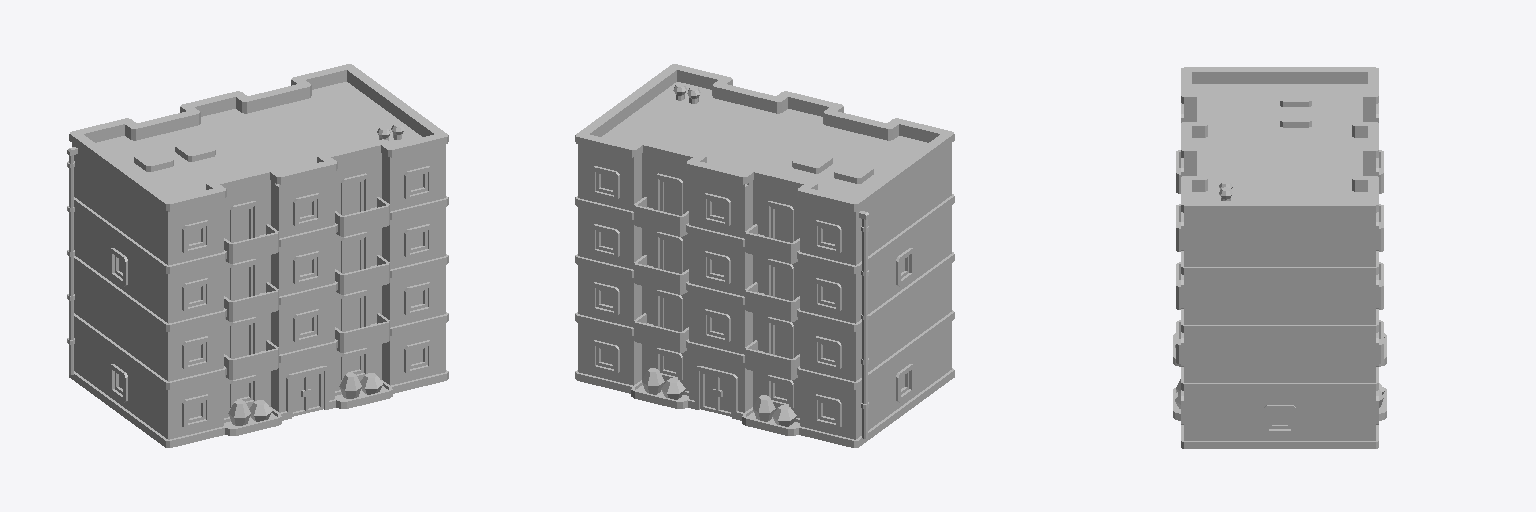
Rendered from building-j.obj.
3 renders of one model, left to right at view 1: azimuth 30°, elevation 25°; view 2: azimuth 150°, elevation 25°; view 3: azimuth 270°, elevation 25°, orthographic.
Visible parts, largest first — view 1: building-j; view 2: building-j; view 3: building-j.
Boxes of the visible parts, <box> form: building-j: <box>67,64,448,447</box>; building-j: <box>575,64,954,447</box>; building-j: <box>1173,67,1386,448</box>.
Bounding box in the file's own units: 2.08 × 1.69 × 1.34.